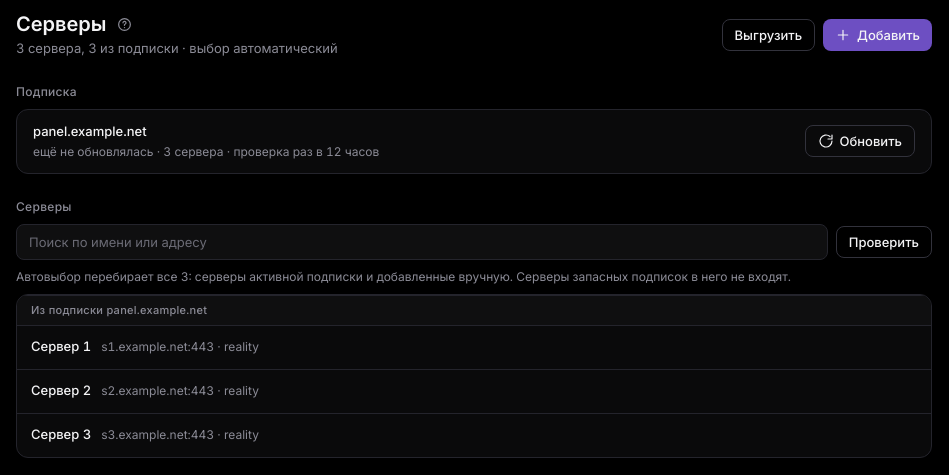
серверы: область автовыбора › поиск прячет строки и не трогает область
Type "Сервер 1" into the search field with test id "poisk". click: (422, 242)
box: [16,224,828,260]
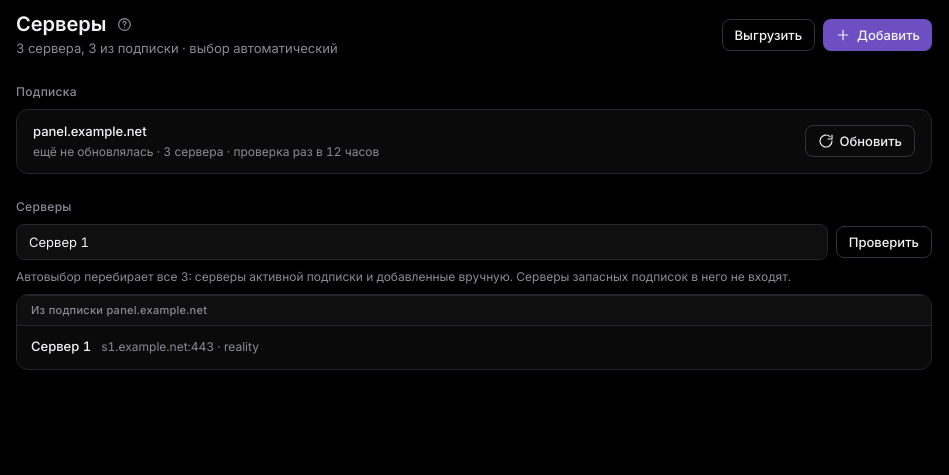
Expected: the text with test id "oblast-avto" shows "все 3", [16,269,513,284]
Result: the number of options is 1 at [17,324,931,368]
